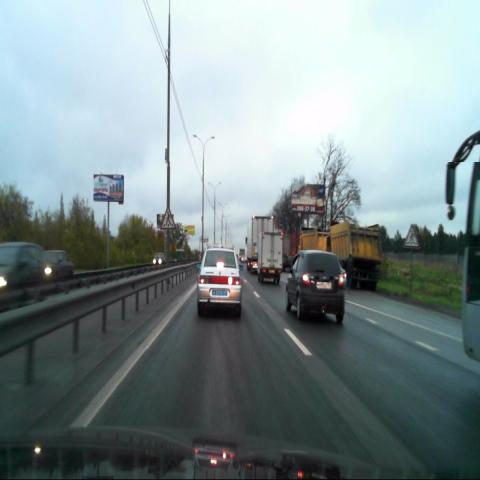1_22: (160, 206, 175, 228)
